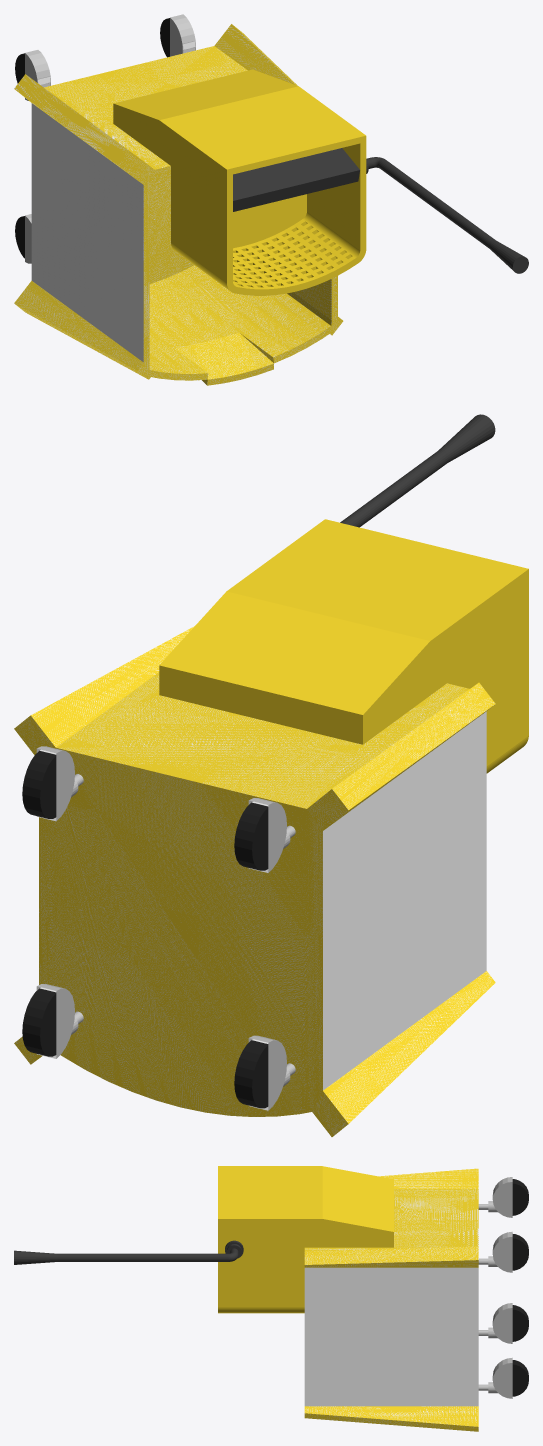
3 views of the same model, one above another, from view 1: azimuth 30°, elevation 25°; view 2: azimuth 150°, elevation 25°; view 3: azimuth 270°, elevation 25° (orthographic). The views are drawn at different scales.
Parts seen in each view (by area): view 1: plastic mop bucket; view 2: plastic mop bucket; view 3: plastic mop bucket.
Boxes of the visible parts, x1=… form: plastic mop bucket: x1=14, y1=14, x2=528, y2=385; plastic mop bucket: x1=14, y1=414, x2=528, y2=1136; plastic mop bucket: x1=14, y1=1166, x2=528, y2=1431.
Bounding box in the file's own units: 14.15 × 15.87 × 35.56.
